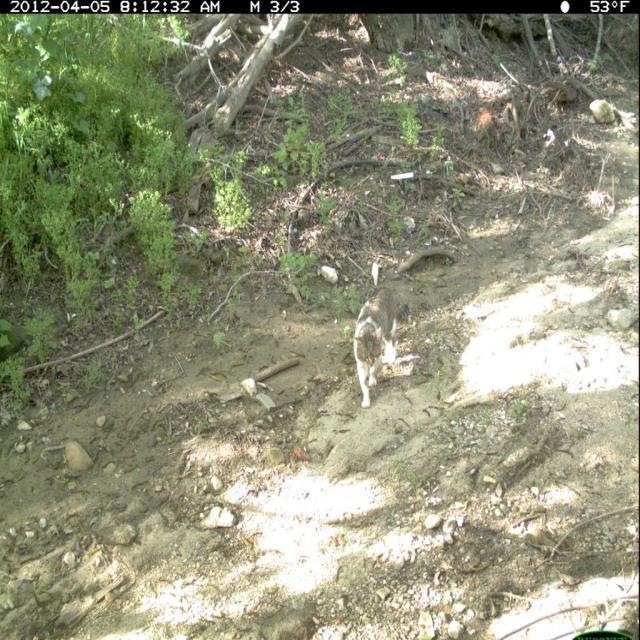cat: (348, 272, 416, 417)
